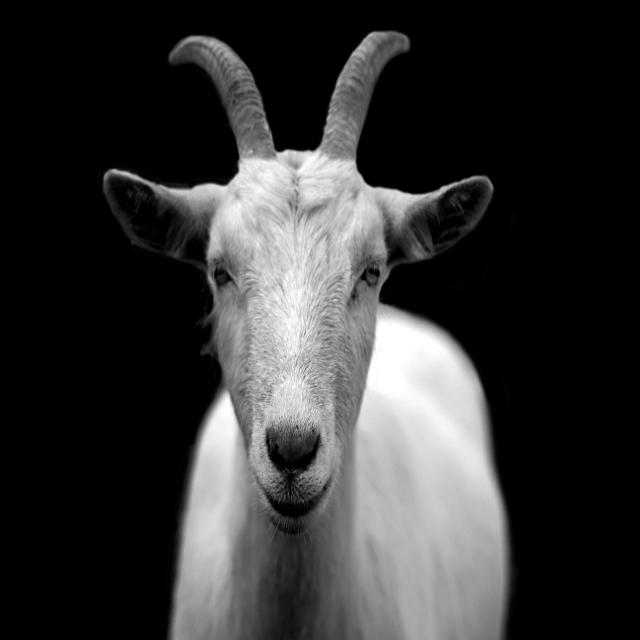Goat: (102, 35, 512, 640)
